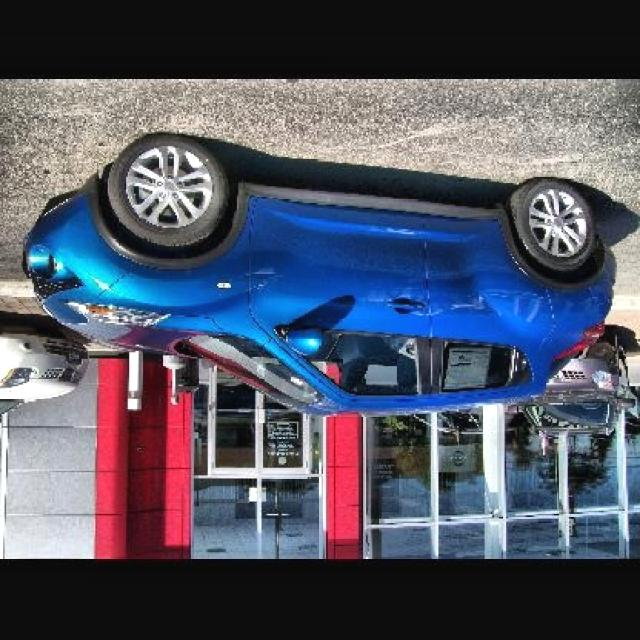blue: (23, 150, 613, 420)
